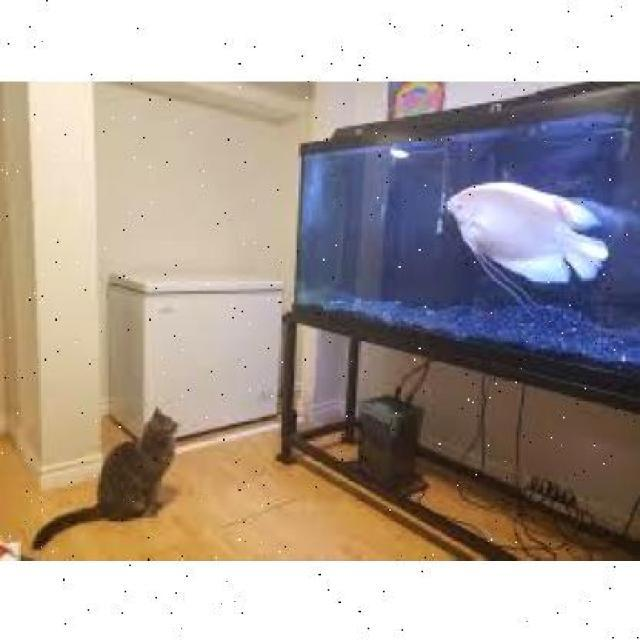gurame: (442, 182, 608, 284)
